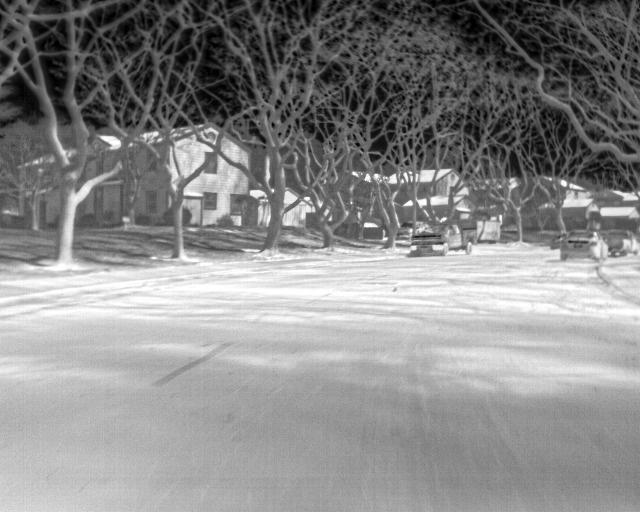car: (558, 225, 605, 262), (600, 226, 639, 257), (397, 218, 424, 238), (546, 228, 568, 248)
